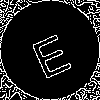E: (25, 25, 74, 80)
